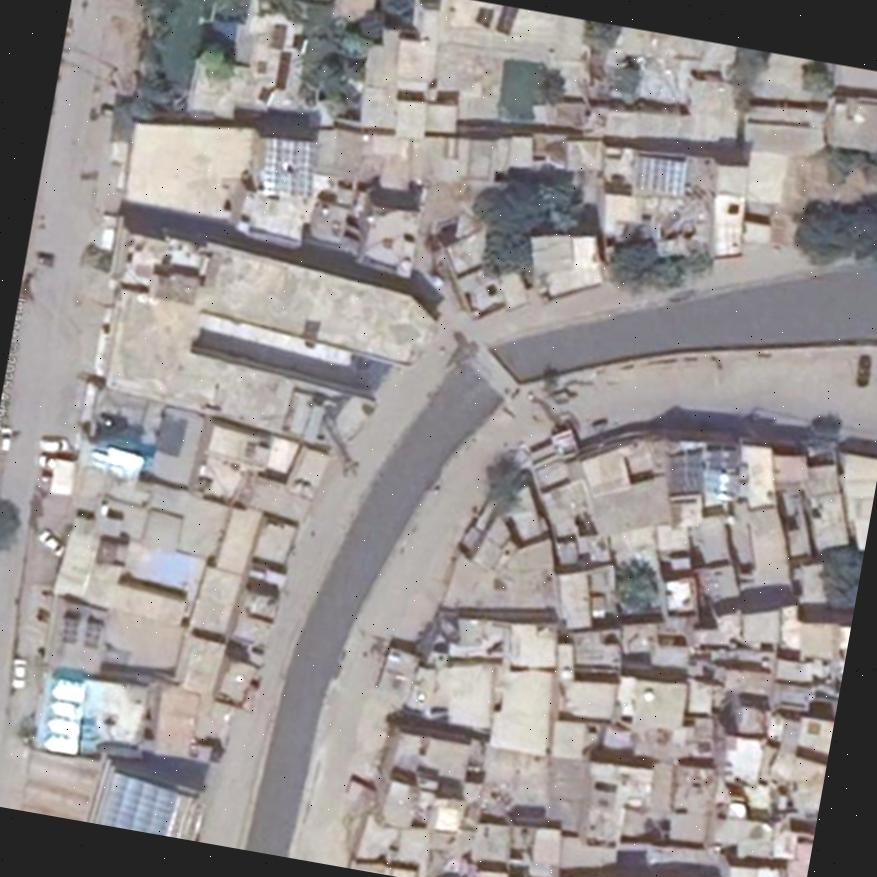Solarpanel: (100, 771, 178, 835), (260, 137, 319, 194), (48, 674, 82, 755), (632, 154, 685, 199), (495, 5, 517, 34), (84, 621, 103, 649), (474, 7, 493, 27), (63, 616, 77, 642)
